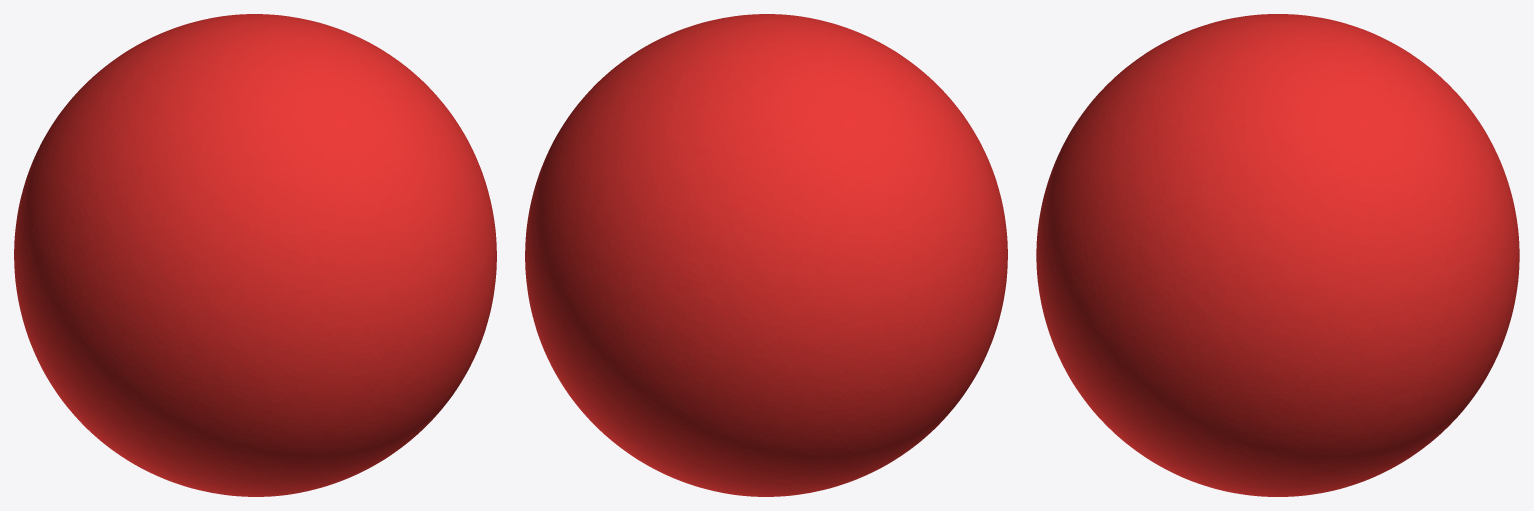
The model's file is RubberBall.fbx.
The picture shows the model from 3 angles, left to right: view 1: azimuth 30°, elevation 25°; view 2: azimuth 150°, elevation 25°; view 3: azimuth 270°, elevation 25°; orthographic projection.
Parts seen in each view (by area): view 1: Rubber_Ball; view 2: Rubber_Ball; view 3: Rubber_Ball.
Part boxes in pixels (x1,y1,x2,y2): Rubber_Ball: (14, 14, 496, 496); Rubber_Ball: (525, 14, 1007, 496); Rubber_Ball: (1036, 14, 1519, 496).
Bounding box in the file's own units: 199 × 199 × 199.
